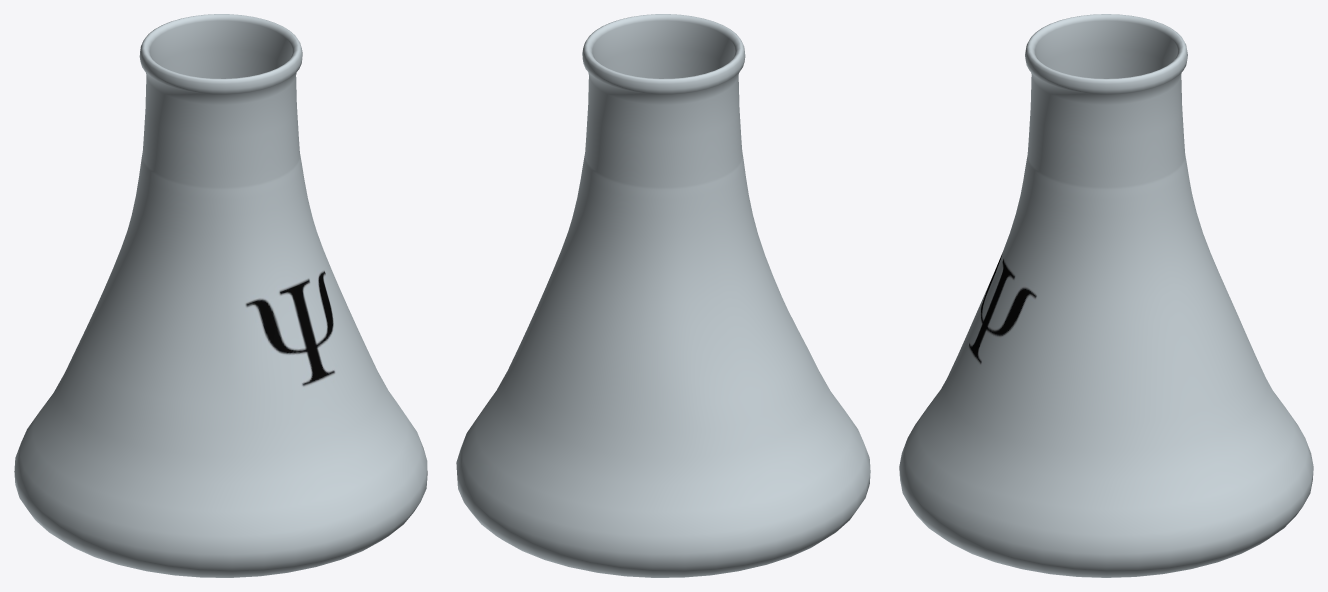
The model's file is beaker.obj.
3 renders of one model, left to right at view 1: azimuth 30°, elevation 25°; view 2: azimuth 150°, elevation 25°; view 3: azimuth 270°, elevation 25°, orthographic.
Visible parts, largest first — view 1: obj1; view 2: obj1; view 3: obj1.
Boxes of the visible parts, x1,y1,x2,y2 form: obj1: (14,14,427,577); obj1: (456,14,870,577); obj1: (899,14,1313,577).
Size of the model in its own units: 2.29 by 2.78 by 2.29.
Materials: 1 (1 with a texture image).
